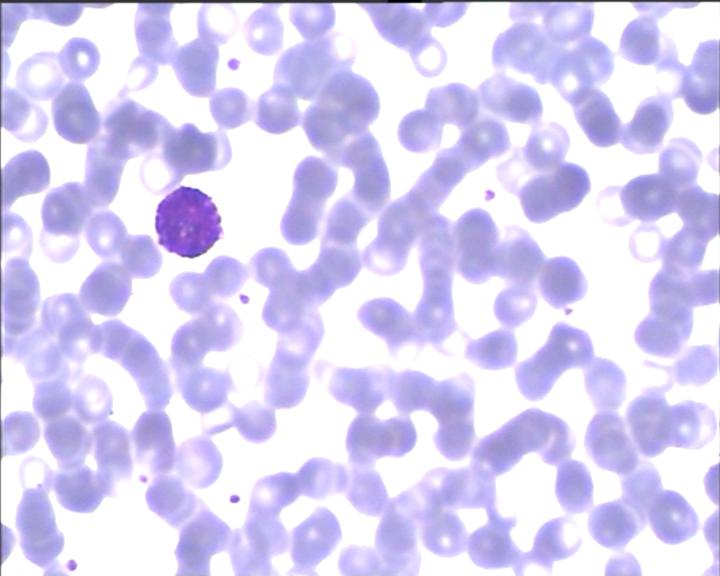baso: (147, 180, 231, 258)
